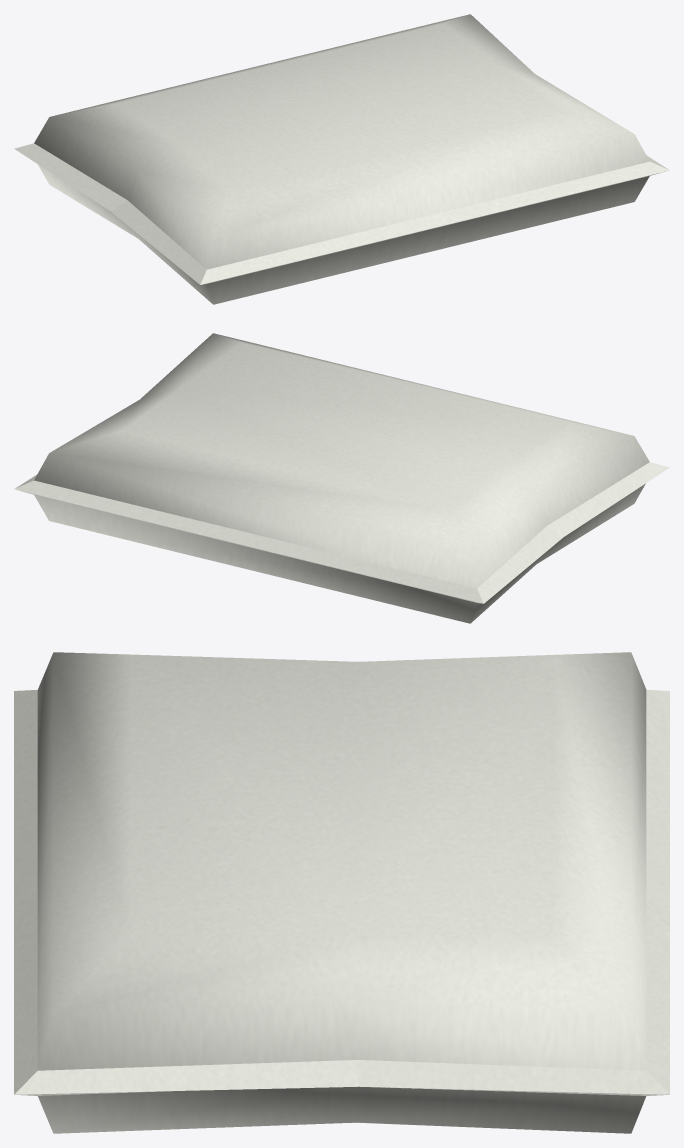
The model's file is Pillow_I.FBX.
3 renders of one model, top to bottom at view 1: azimuth 30°, elevation 25°; view 2: azimuth 150°, elevation 25°; view 3: azimuth 270°, elevation 25°, orthographic. The views are drawn at different scales.
Visible parts, largest first — view 1: Pillow; view 2: Pillow; view 3: Pillow.
Boxes of the visible parts, bbox=[...] form: Pillow: bbox=[14, 14, 669, 304]; Pillow: bbox=[14, 333, 669, 623]; Pillow: bbox=[14, 652, 669, 1133].
Size of the model in its own units: 194 by 41.64 by 133.
